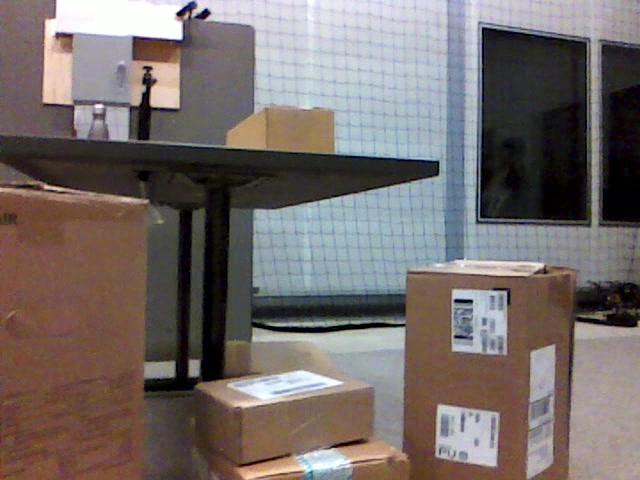box: (1, 182, 145, 480), (408, 258, 574, 480), (195, 371, 373, 465), (189, 416, 406, 480), (228, 105, 336, 154)
